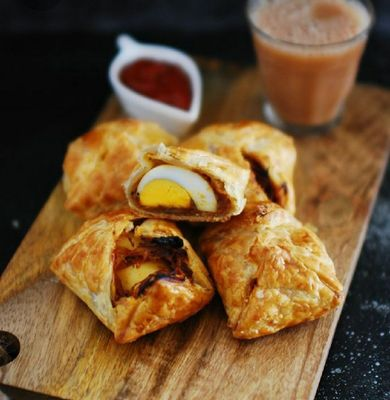pizza: (247, 0, 375, 135), (106, 32, 205, 137)
sushi: (106, 32, 204, 138)
